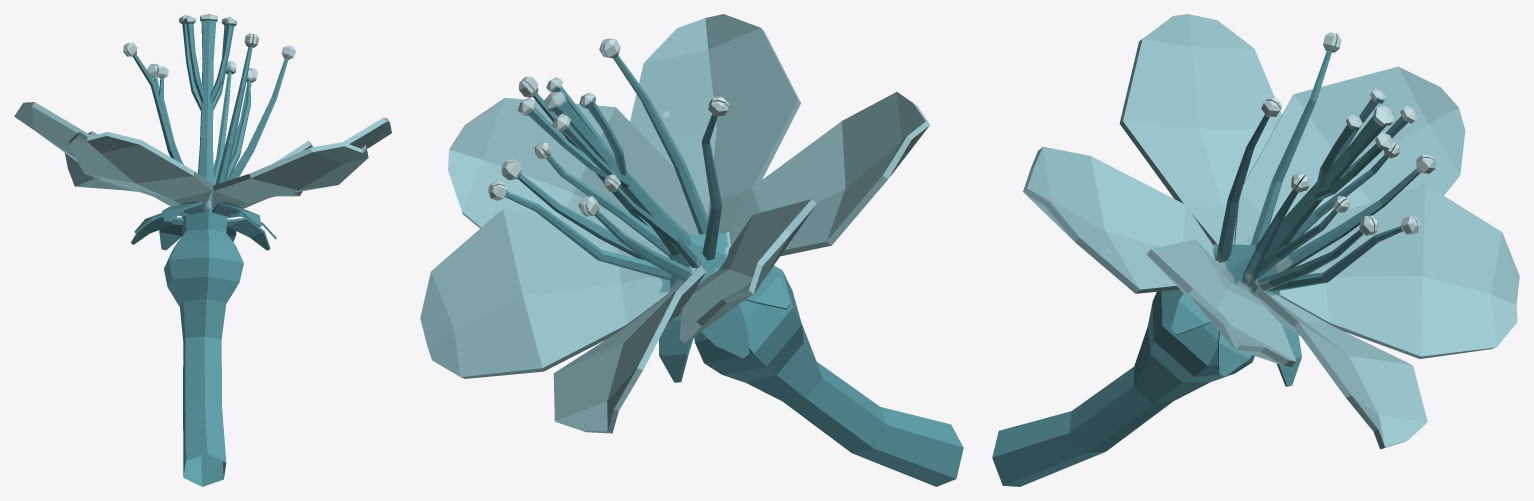
Rendered from Flower2.glb.
3 renders of one model, left to right at view 1: azimuth 30°, elevation 25°; view 2: azimuth 150°, elevation 25°; view 3: azimuth 270°, elevation 25°, orthographic. The views are drawn at different scales.
Parts seen in each view (by area): view 1: node_id4; view 2: node_id4; view 3: node_id4.
Part boxes in pixels (x1,y1,x2,y2): node_id4: (14,14,391,486); node_id4: (420,14,963,486); node_id4: (992,14,1519,486).
Size of the model in its own units: 0.3911 by 0.406 by 0.4017.
Materials: 1 (1 with a texture image).
